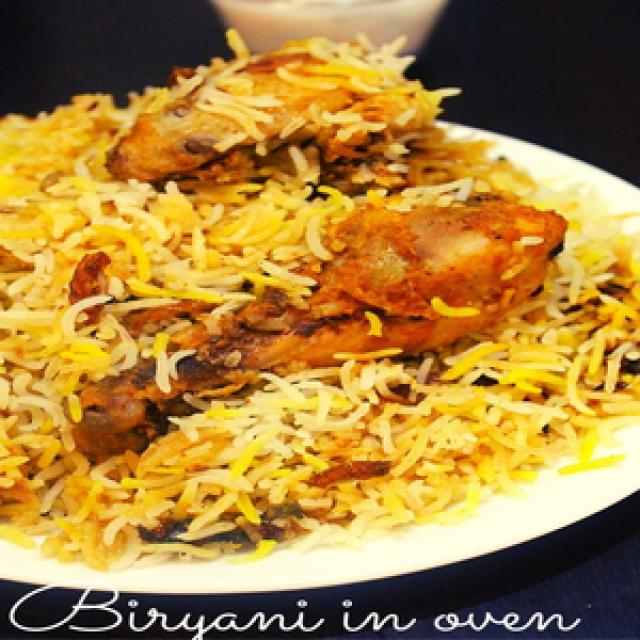chicken biriyani: (2, 12, 640, 583)
